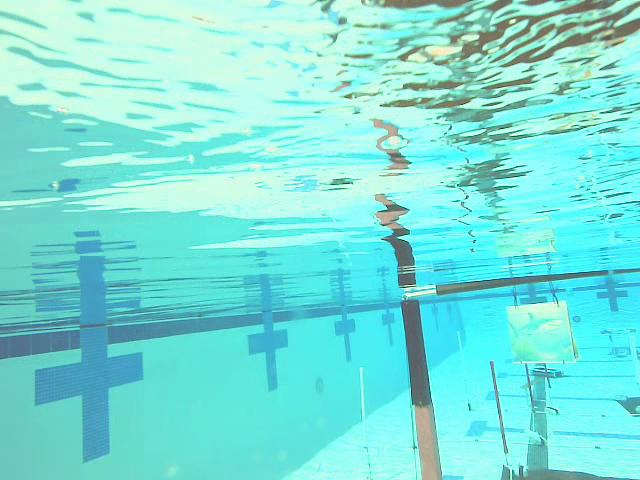black_poster: (486, 360, 511, 465), (524, 366, 538, 405)
left_gate_poster: (402, 299, 449, 480)
shark: (505, 307, 577, 363)
white_poster: (457, 332, 477, 422), (357, 363, 372, 474)
